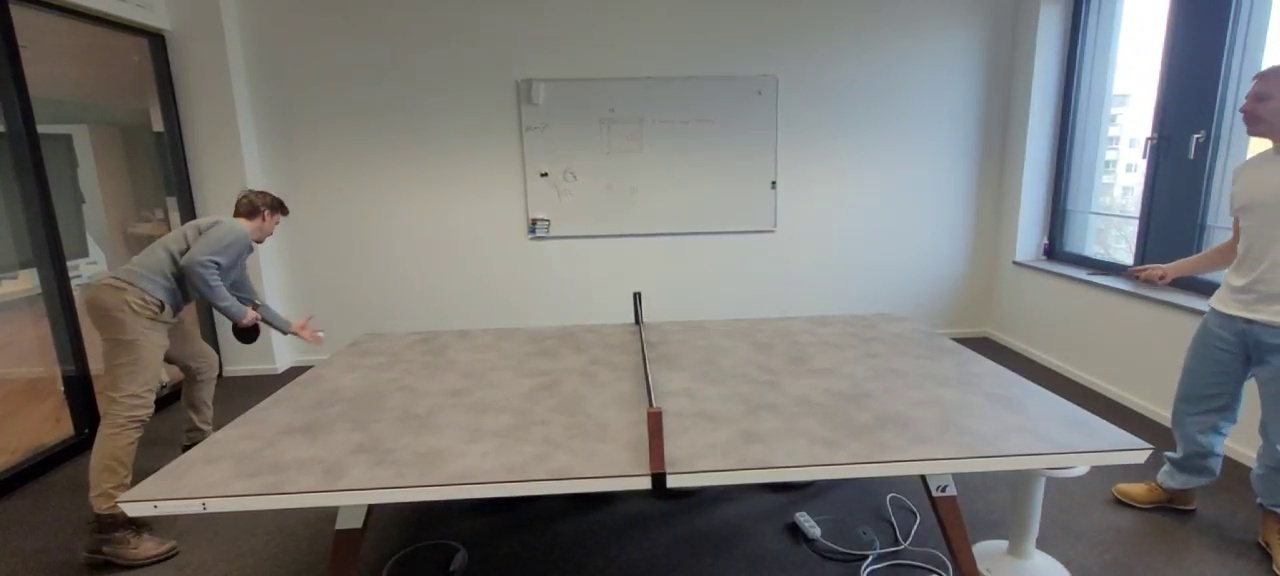1: (231, 322, 260, 345), (1088, 272, 1130, 276)
2: (317, 331, 325, 337)
ttplatte: (115, 311, 1154, 501)
